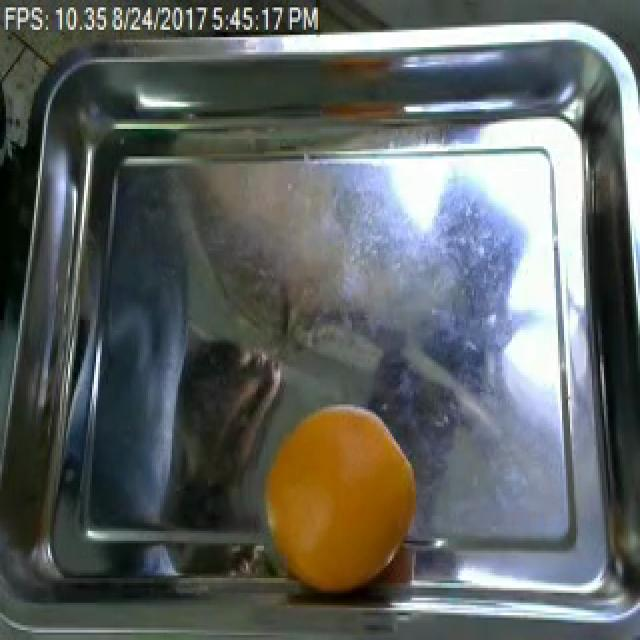Fruit: (254, 400, 424, 606)
